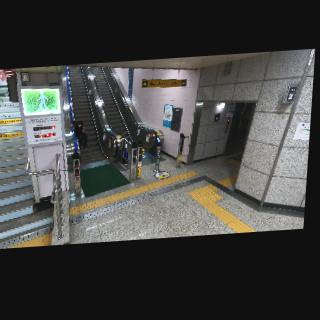normal: (69, 119, 90, 151)
